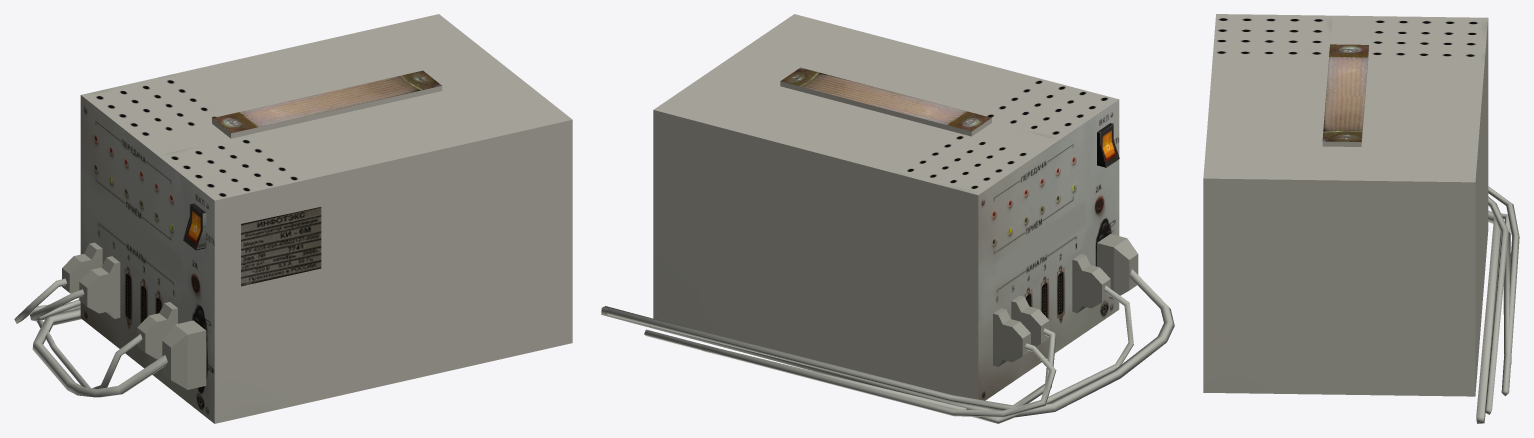
Rendered from Старый УБП.fbx.
3 renders of one model, left to right at view 1: azimuth 30°, elevation 25°; view 2: azimuth 150°, elevation 25°; view 3: azimuth 270°, elevation 25°, orthographic. The views are drawn at different scales.
Visible parts, largest first — view 1: Старыи_УБП; view 2: Старыи_УБП; view 3: Старыи_УБП.
Part boxes in pixels (bbox=[...]): Старыи_УБП: bbox=[14, 14, 572, 423]; Старыи_УБП: bbox=[601, 14, 1174, 423]; Старыи_УБП: bbox=[1203, 14, 1519, 423].
Bounding box in the file's own units: 52.03 × 22.95 × 29.47.
Materials: 1 (1 with a texture image).
